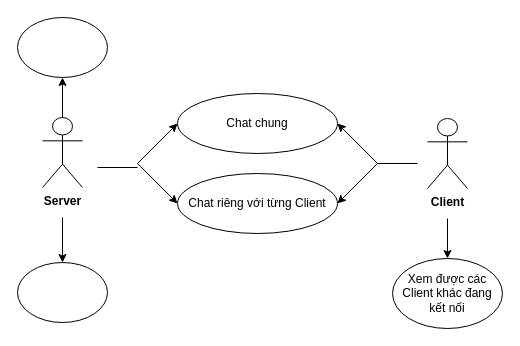
Some shapes in this 520 by 346 pixel diagram are drawn without their labels. The box of each missing label's shape, as (x1, y1, x2, y2) in pixels:
Quản lý Client: (16, 16, 108, 78)
Đuổi Client: (16, 262, 108, 322)
